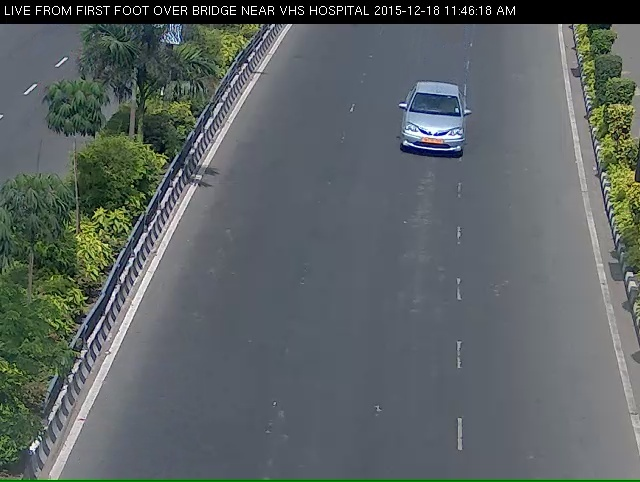Car: (384, 86, 476, 181)
